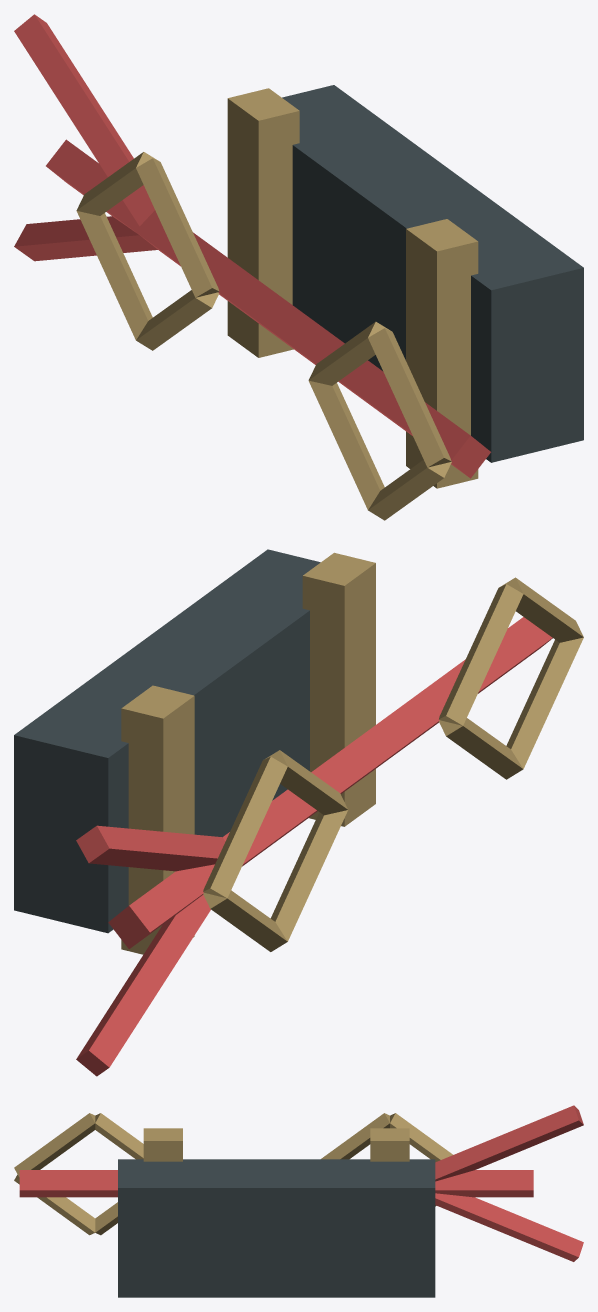
Rendered from Arsenal_WoundTracerRail.fbx.
The picture shows the model from 3 angles, top to bottom: view 1: azimuth 30°, elevation 25°; view 2: azimuth 150°, elevation 25°; view 3: azimuth 270°, elevation 25°; orthographic projection. The views are drawn at different scales.
Visible parts, largest first — view 1: Arsenal_WoundTracerRail; view 2: Arsenal_WoundTracerRail; view 3: Arsenal_WoundTracerRail.
Part boxes in pixels (bbox=[...]): Arsenal_WoundTracerRail: bbox=[14, 14, 583, 520]; Arsenal_WoundTracerRail: bbox=[14, 549, 583, 1076]; Arsenal_WoundTracerRail: bbox=[14, 1105, 583, 1297].
Bounding box in the file's own units: 0.1135 × 0.1146 × 0.3771.
